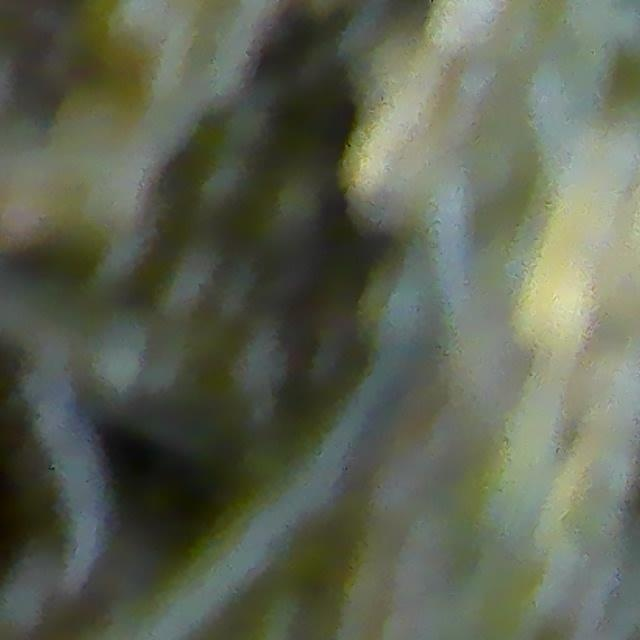SeaGrape: (257, 172, 332, 255), (83, 314, 155, 396)
